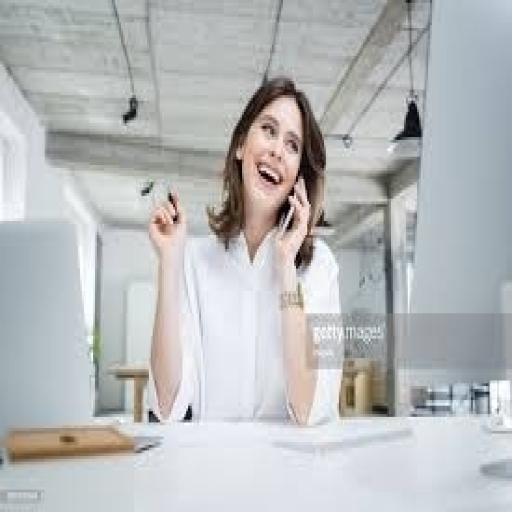calling: (146, 73, 346, 428)
